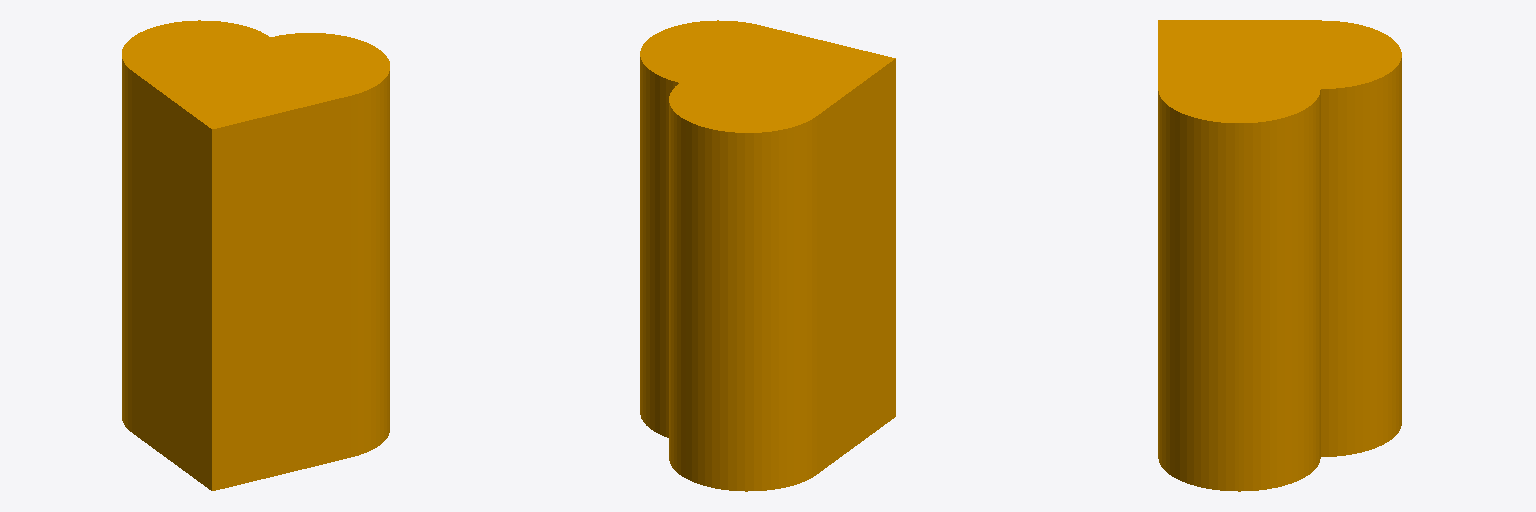
URDF robot description (heart):
<?xml version="1.0"?>
<!-- GENERATED from heart.yaml by `object_models generate`. Do not edit. -->
<!-- status: provisional. Body frame = CAD frame of heart.yaml. -->
<robot name="heart">
  <link name="heart">
    <visual>
      <geometry>
        <mesh filename="package://irb120_models/objects/heart/meshes/heart.stl"/>
      </geometry>
    </visual>
    <collision>
      <geometry>
        <mesh filename="package://irb120_models/objects/heart/meshes/heart.stl"/>
      </geometry>
    </collision>
  </link>
</robot>

--- Facts derived from the render (not from the file) ---
The picture shows the robot from 3 angles, left to right: view 1: azimuth 30°, elevation 25°; view 2: azimuth 150°, elevation 25°; view 3: azimuth 270°, elevation 25°; orthographic projection.
Robot: heart — 1 links, 0 joints (none); root link heart; default pose: all joints at 0.
Visible links, largest first — view 1: heart; view 2: heart; view 3: heart.
Boxes of the visible links, x1,y1,x2,y2 form: heart: (122,20,389,490); heart: (640,20,895,491); heart: (1158,20,1401,491).
Size in the robot's own frame: 0.06 by 0.06 by 0.1 metres.
1 mesh visuals loaded from 1 distinct referenced files (1 binary STL).
